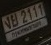txt05: (4, 16, 12, 30)
txt29: (10, 14, 19, 28)
